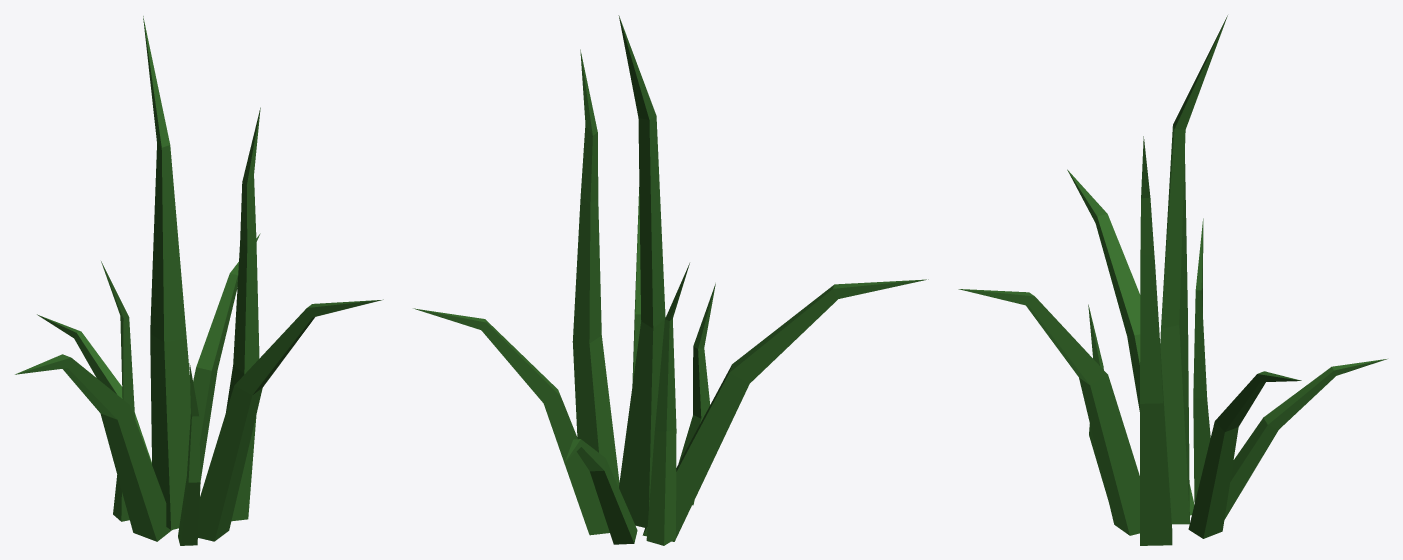
The model's file is pasto.obj.
3 views of the same model, side by side, from view 1: azimuth 30°, elevation 25°; view 2: azimuth 150°, elevation 25°; view 3: azimuth 270°, elevation 25° (orthographic). The views are drawn at different scales.
Parts seen in each view (by area): view 1: NaturePack_Grass1; view 2: NaturePack_Grass1; view 3: NaturePack_Grass1.
Boxes of the visible parts, <box> form: NaturePack_Grass1: <box>15,16,383,545</box>; NaturePack_Grass1: <box>413,15,928,545</box>; NaturePack_Grass1: <box>958,15,1386,545</box>.
Bounding box in the file's own units: 0.9262 × 1.22 × 0.9339.
